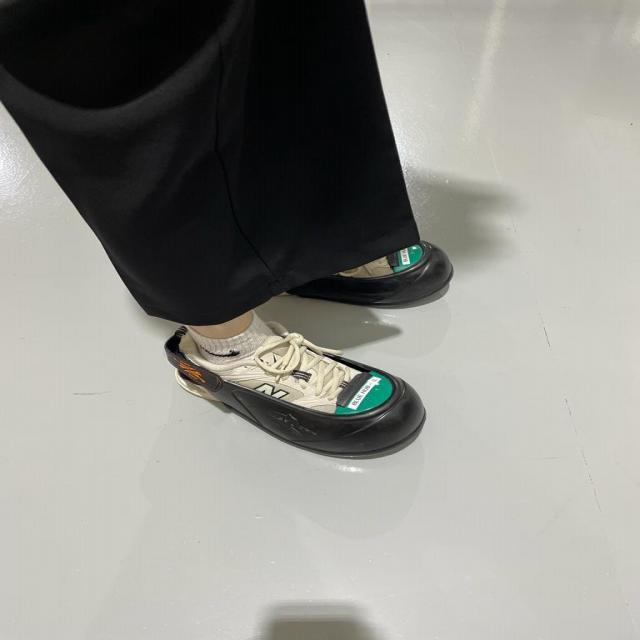shoes: (158, 323, 432, 472), (277, 238, 463, 304)
